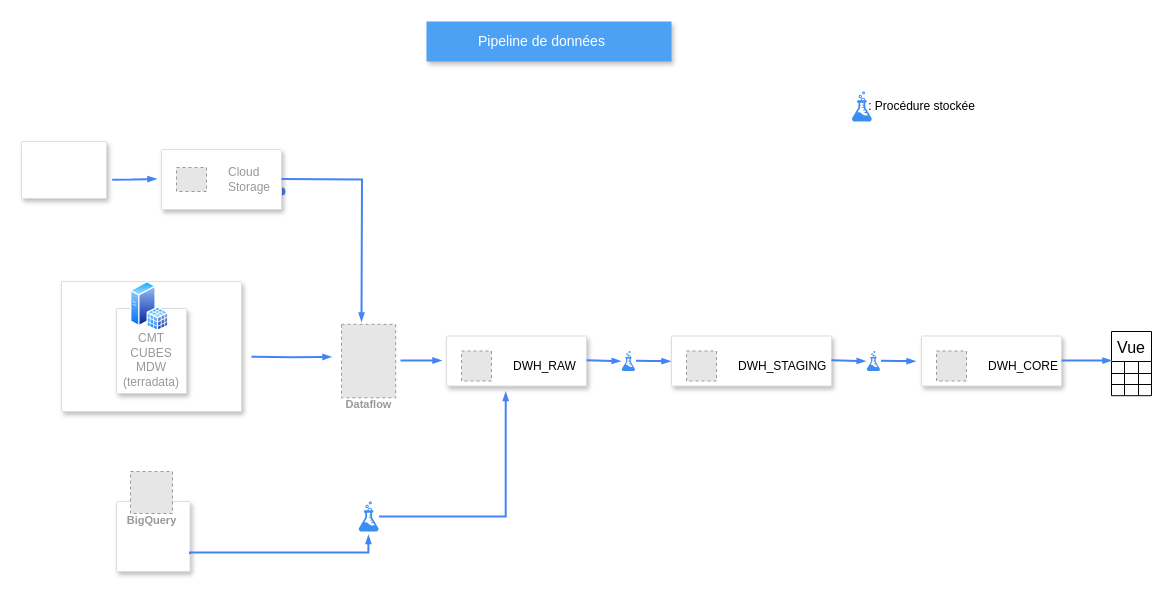
Image size: 1169x596. Some labels were removed from this diagram. Grey dashed boxes stand in for pictures. The shapes that lost their labels are listed below. From the top down, each one's centre as x and y in pixels, then its label:
(64,171): Fichier externe (csv, json ..)
(154,537): DANA
